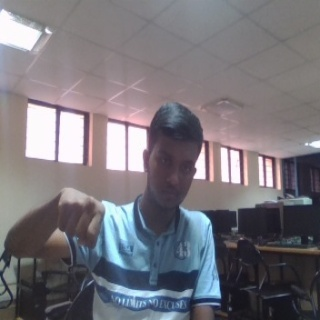Face: (140, 102, 205, 208)
Yes: (52, 182, 109, 251)
